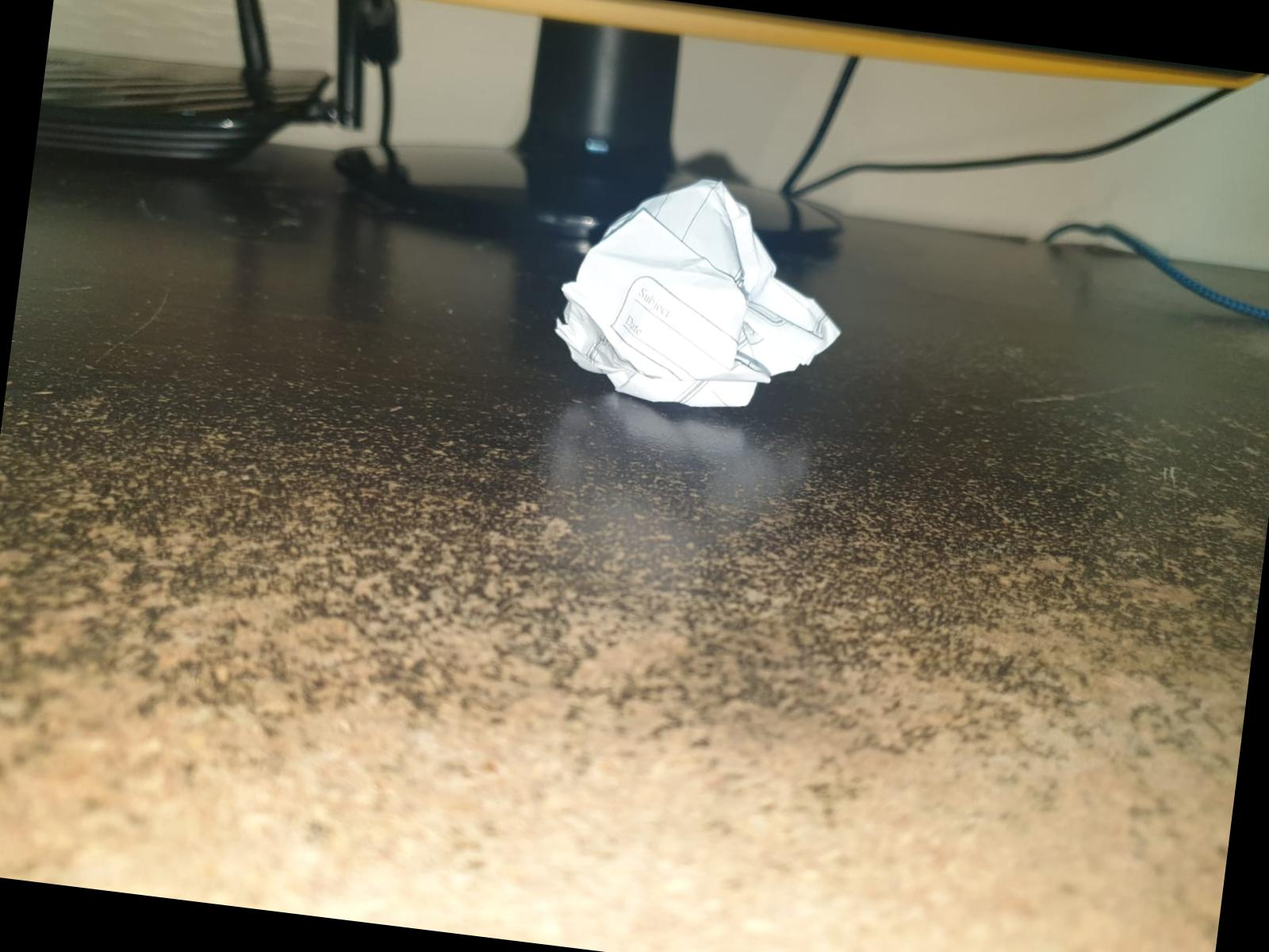Kertas: (556, 178, 839, 407)
